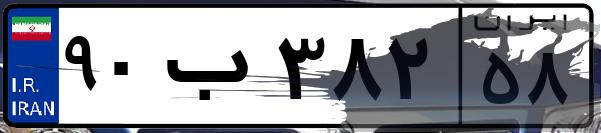0: (110, 28, 158, 98)
2: (385, 28, 445, 110)
3: (270, 28, 330, 110)
5: (475, 38, 525, 113)
8: (330, 28, 385, 110), (525, 38, 570, 115)
9: (57, 26, 110, 100)
ب: (158, 20, 270, 120)
